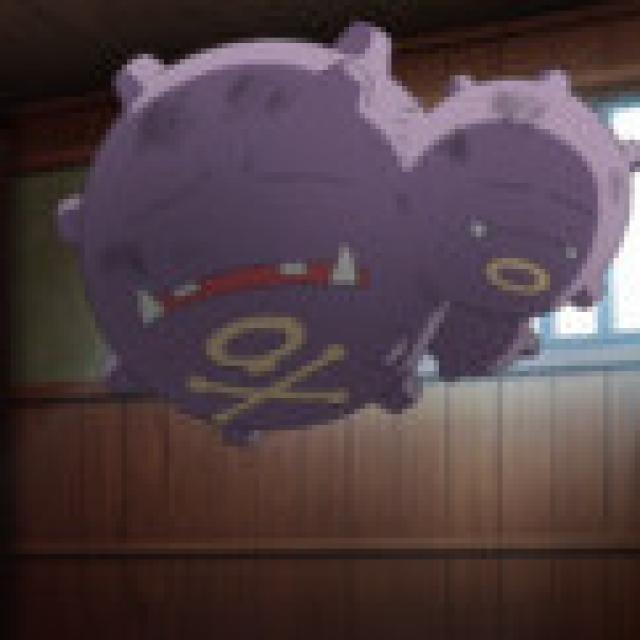Weezing: (72, 18, 631, 458)
